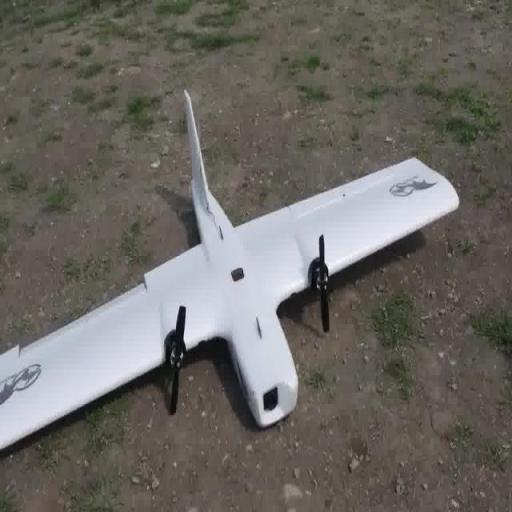uav: (0, 86, 463, 456)
